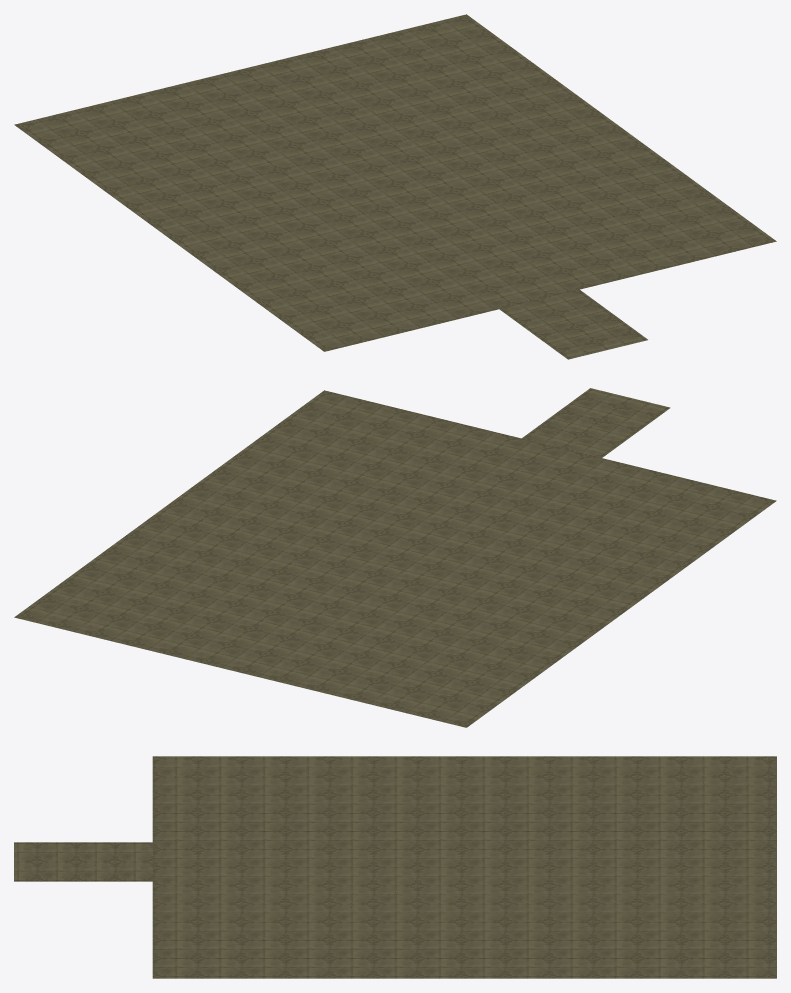
File: fb_cangjingge_dimian01.FBX
3 views of the same model, one above another, from view 1: azimuth 30°, elevation 25°; view 2: azimuth 150°, elevation 25°; view 3: azimuth 270°, elevation 25° (orthographic).
Visible parts, largest first — view 1: fb_cangjingge_dimian01; view 2: fb_cangjingge_dimian01; view 3: fb_cangjingge_dimian01.
Boxes of the visible parts, x1,y1,x2,y2 form: fb_cangjingge_dimian01: (14, 14, 776, 359); fb_cangjingge_dimian01: (14, 388, 776, 727); fb_cangjingge_dimian01: (14, 756, 776, 978).
Size of the model in its own units: 3200 by 1.32e-12 by 4643.
